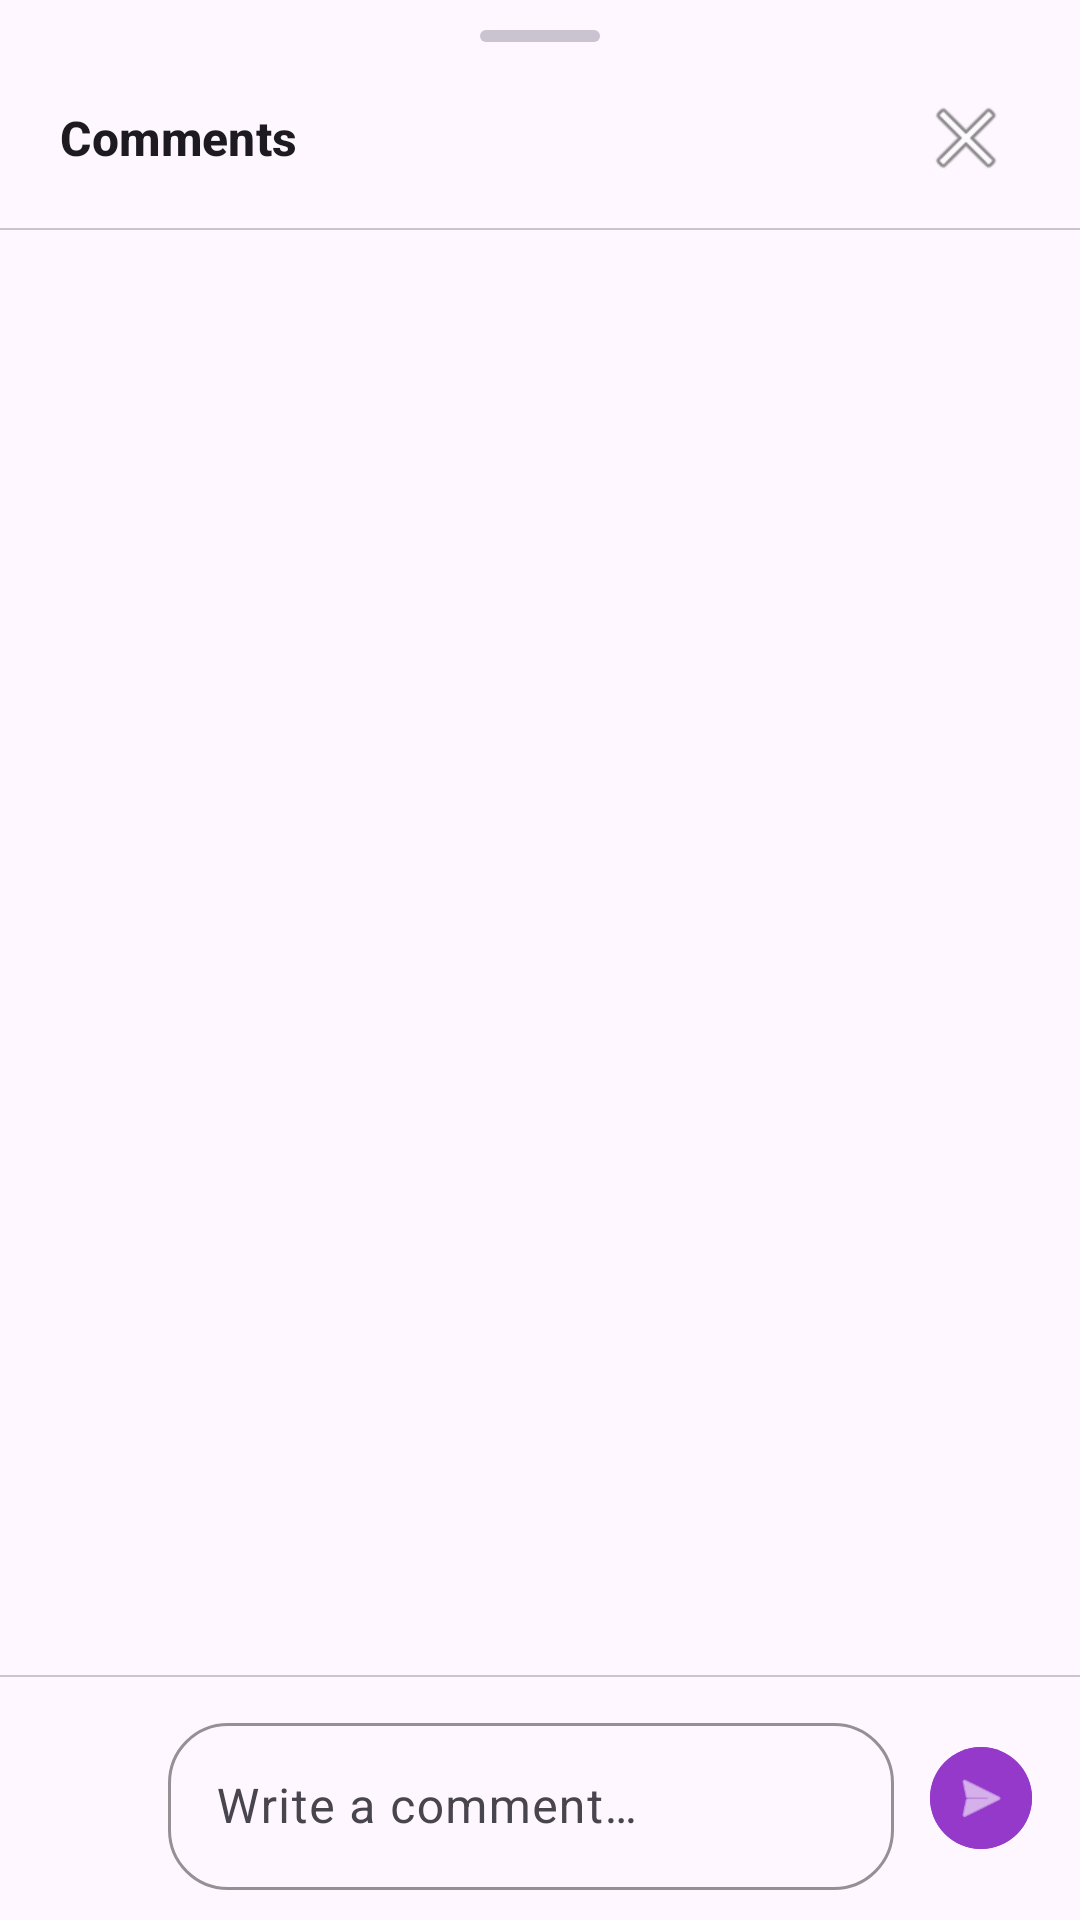

Screen size 1080px x 1920px. Icon name, then its box in pixels as (x1, y1, x2, y2):
Close: (936, 108, 996, 168)
Send comment: (930, 1747, 1032, 1849)
